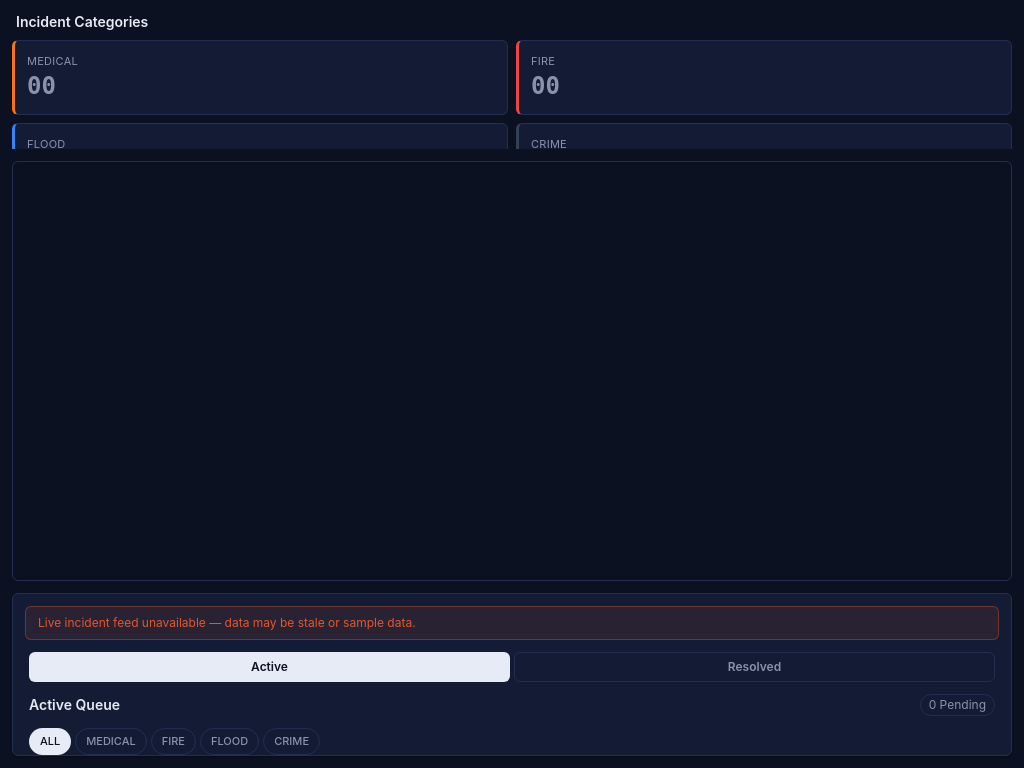
Scenario: Resolved tab category chips — always visible (ControlRoom chrome) › renders the chips when the incident feed failed to load
The image size is (1024, 768).
Click the button "Resolved". click: (754, 667)
box: [514, 652, 995, 682]
(page scrolled)
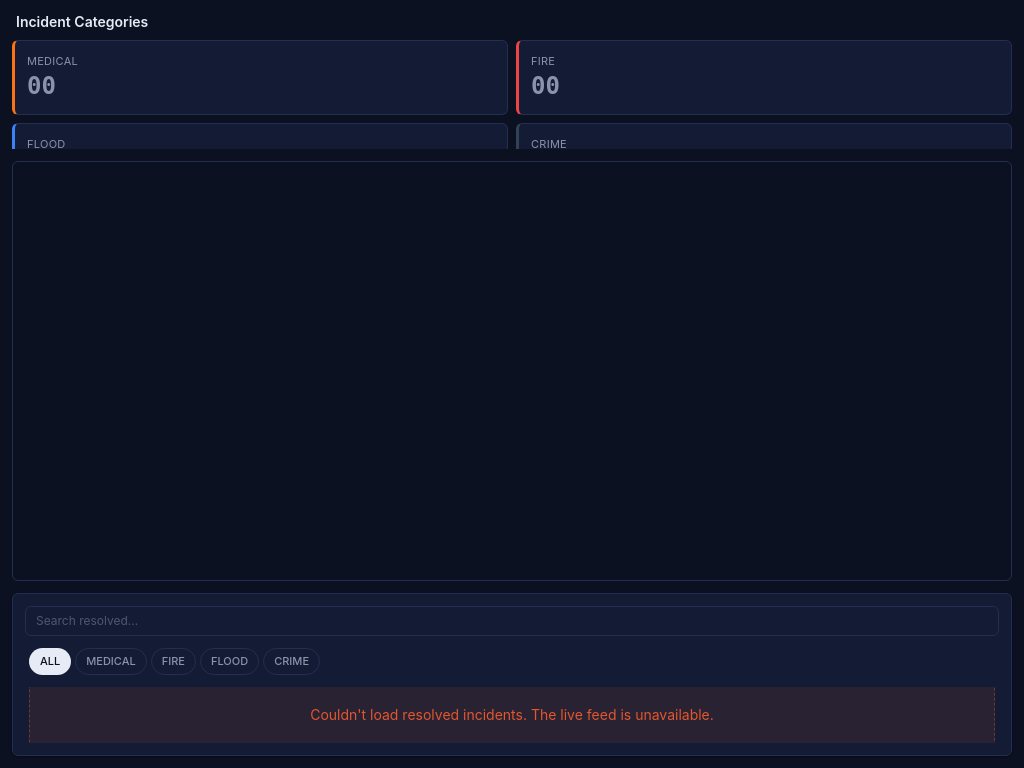
Check: the button with test id "resolved-category-ALL" is shown, box [29, 648, 71, 674]
Check: the text "Couldn't load resolved incidents" is shown, box [310, 706, 714, 722]
